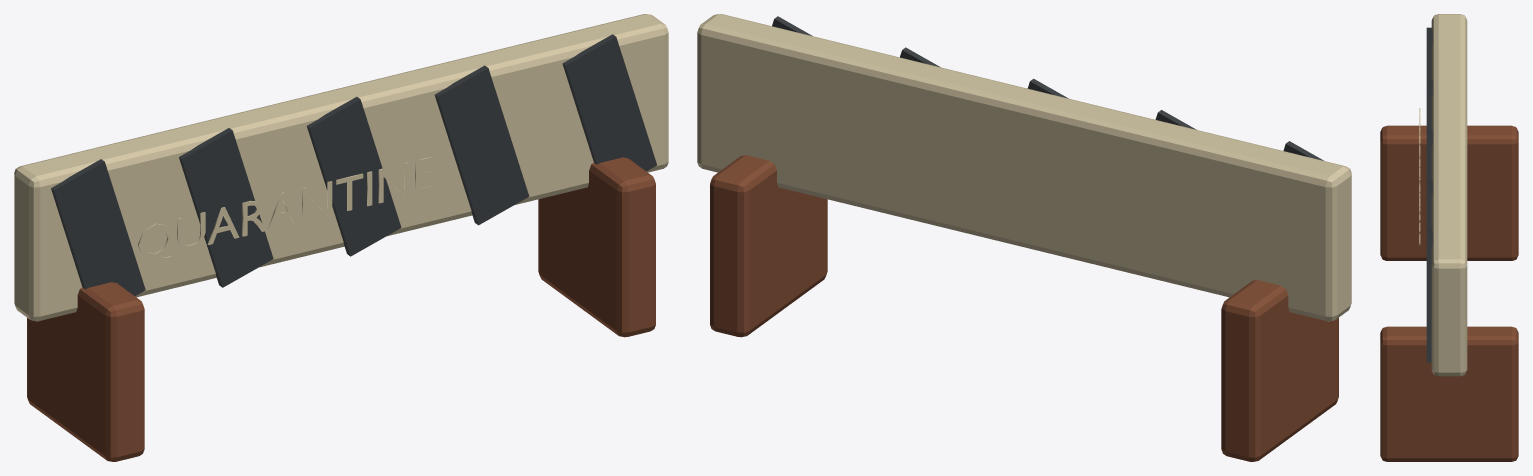
The model's file is checkpoint.glb.
The picture shows the model from 3 angles, left to right: view 1: azimuth 30°, elevation 25°; view 2: azimuth 150°, elevation 25°; view 3: azimuth 270°, elevation 25°; orthographic projection. The views are drawn at different scales.
Parts seen in each view (by area): view 1: checkpoint.001; view 2: checkpoint.001; view 3: checkpoint.001.
Boxes of the visible parts, left/top/right/bottom form: checkpoint.001: left=14, top=14, right=668, bottom=461; checkpoint.001: left=697, top=14, right=1351, bottom=461; checkpoint.001: left=1380, top=14, right=1518, bottom=461.
Size of the model in its own units: 3 by 1.25 by 0.7.
